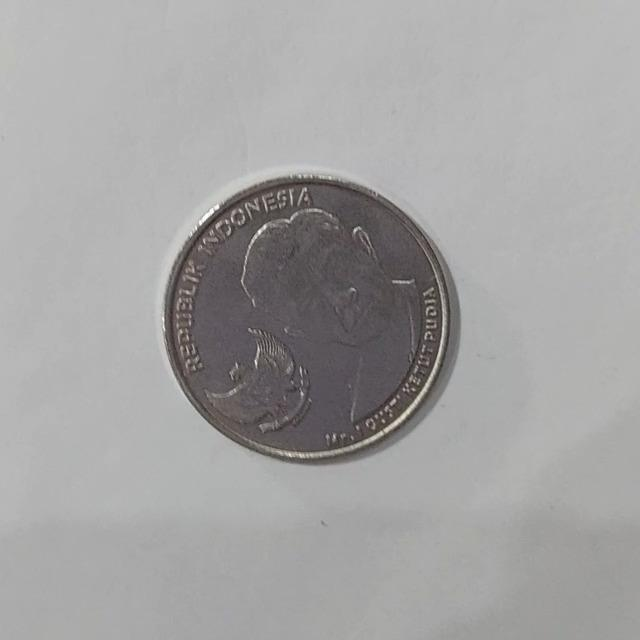Rp100: (160, 167, 457, 463)
